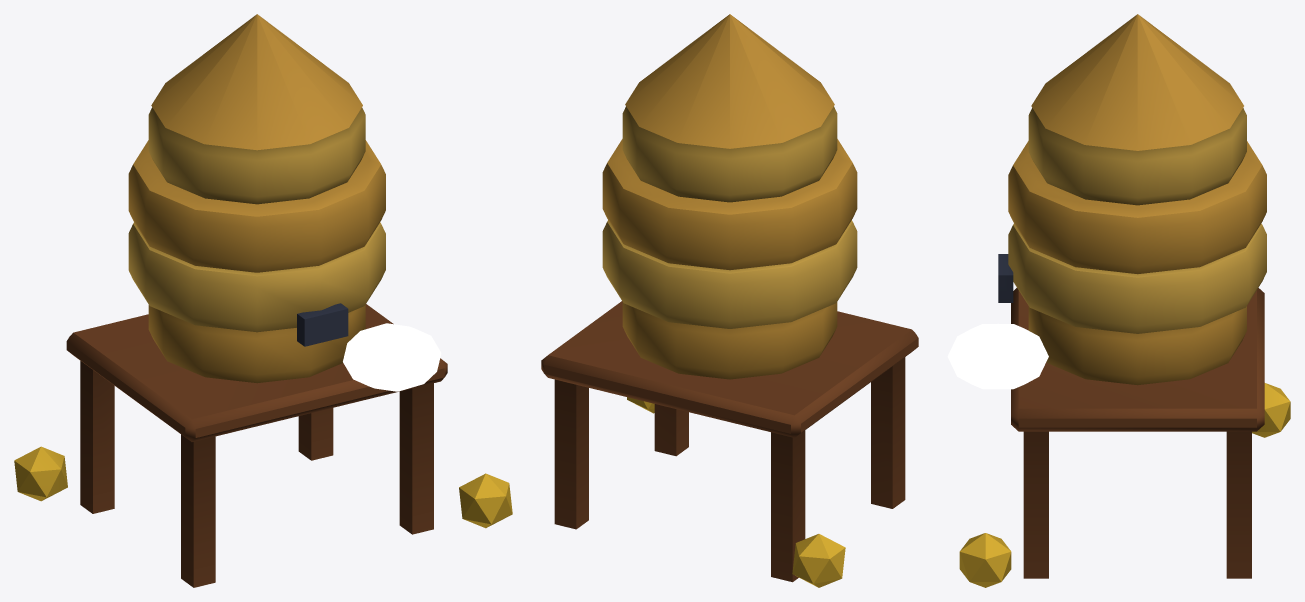
File: n_src_gruental.glb
3 views of the same model, side by side, from view 1: azimuth 30°, elevation 25°; view 2: azimuth 150°, elevation 25°; view 3: azimuth 270°, elevation 25° (orthographic).
Parts seen in each view (by area): view 1: body, bob_honey_glow; view 2: body; view 3: body, bob_honey_glow.
Part boxes in pixels (x1,y1,x2,y2): body: (14, 14, 512, 587); bob_honey_glow: (343, 323, 441, 391); body: (541, 14, 918, 587); body: (959, 14, 1290, 587); bob_honey_glow: (947, 323, 1048, 389).
Bounding box in the file's own units: 1.61 × 2.2 × 1.35.
